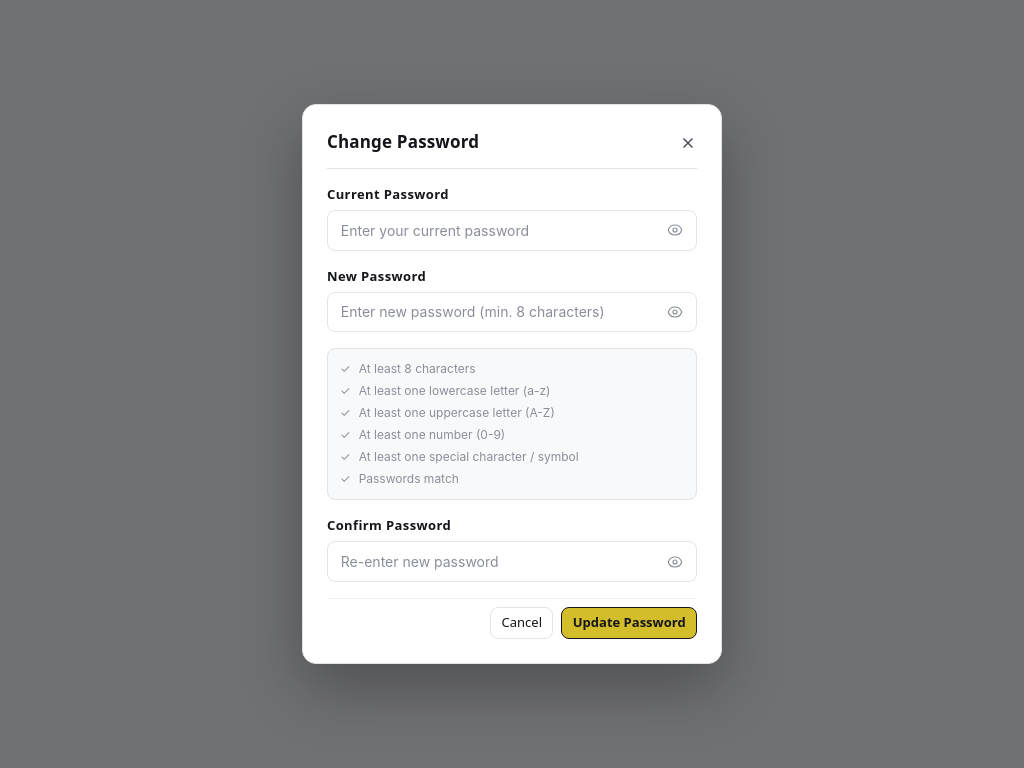
ChangePasswordModal › rejects when passwords do not match
Type "OldPass123!" into the password field labelled "Current Password" at (512, 230), box [327, 210, 697, 250]
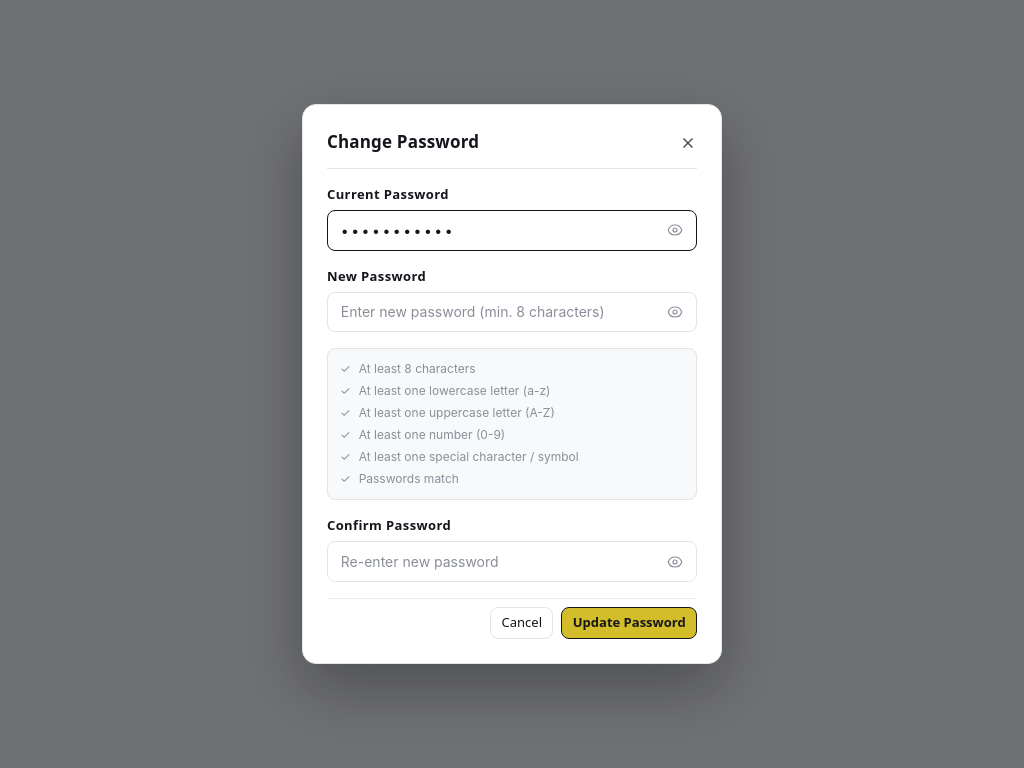
Type "ValidPass123!" into the password field labelled "New Password" at (512, 312), box [327, 292, 697, 332]
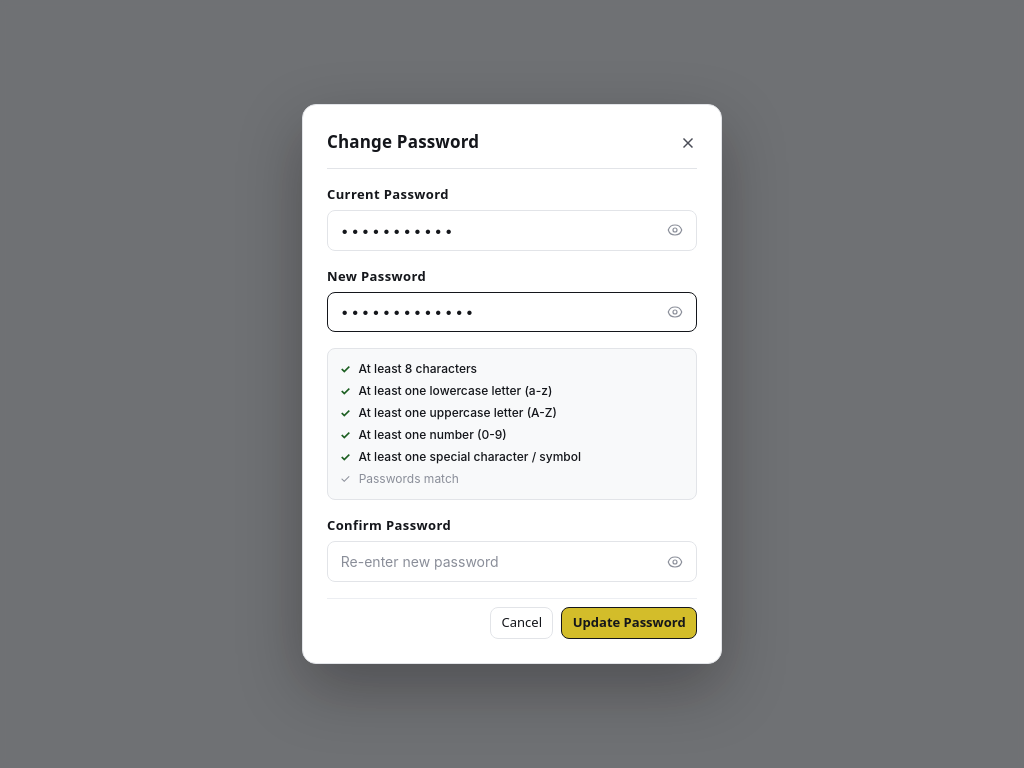
Type "DifferentPass123!" into the password field labelled "Confirm Password" at (512, 562), box [327, 541, 697, 582]
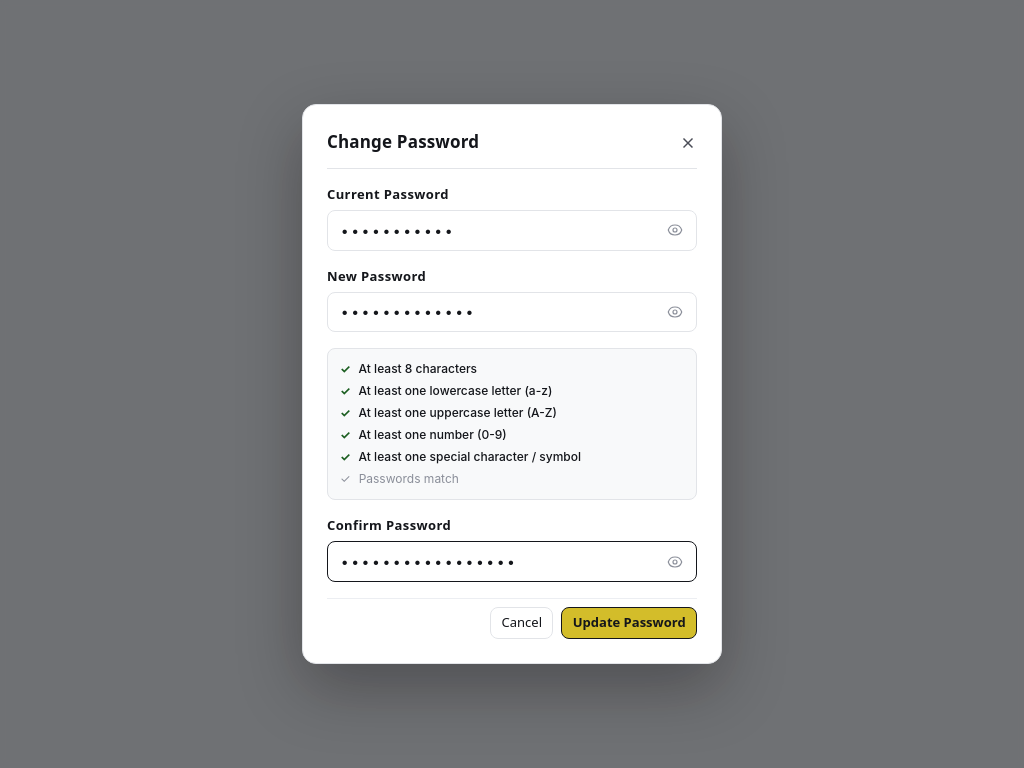
Click the button "Update Password" at (629, 623), box [561, 607, 697, 639]
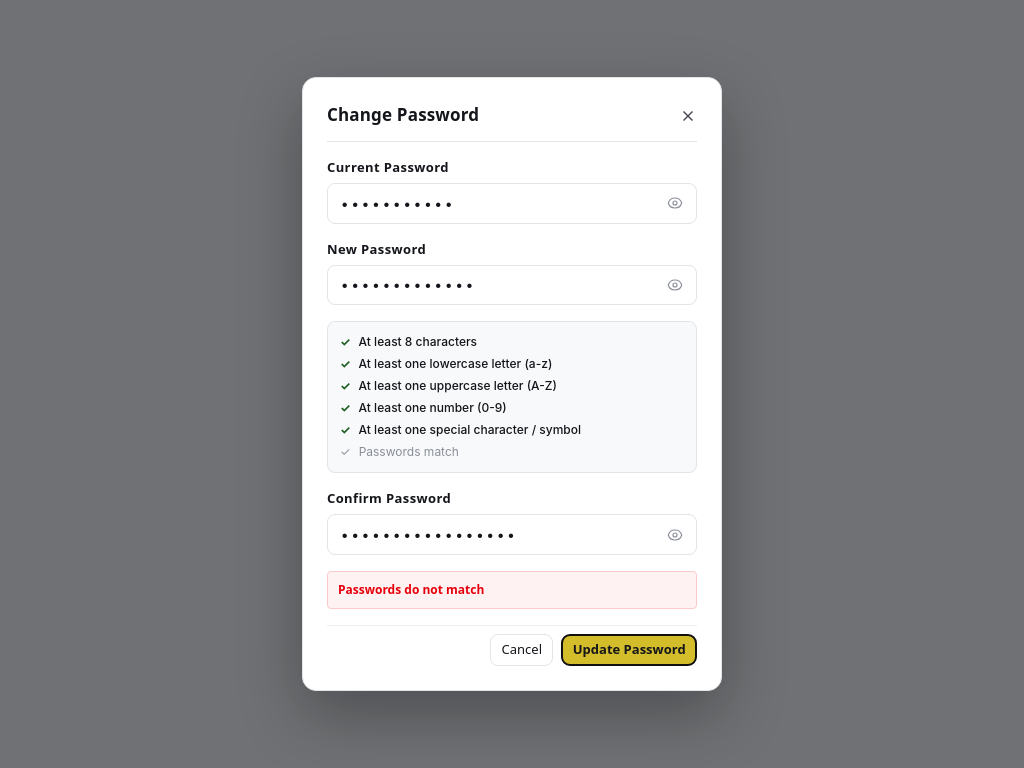
Expected: the text "Passwords do not match" is shown, [327, 571, 697, 609]
